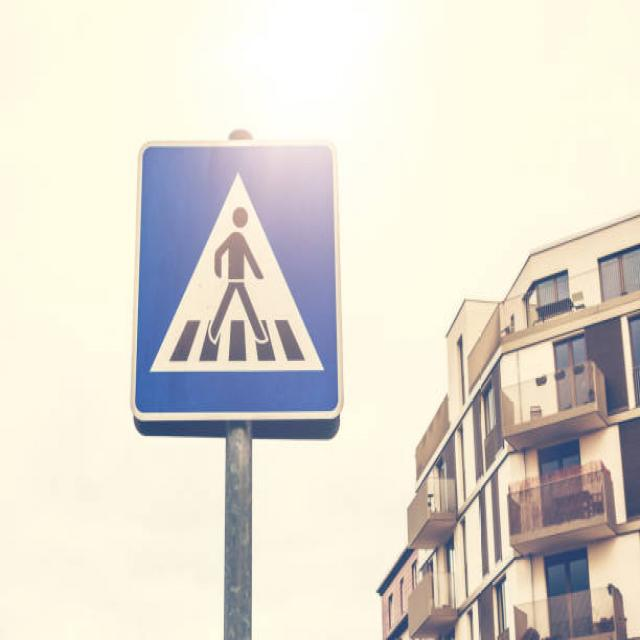crosswalk: (130, 122, 346, 432)
